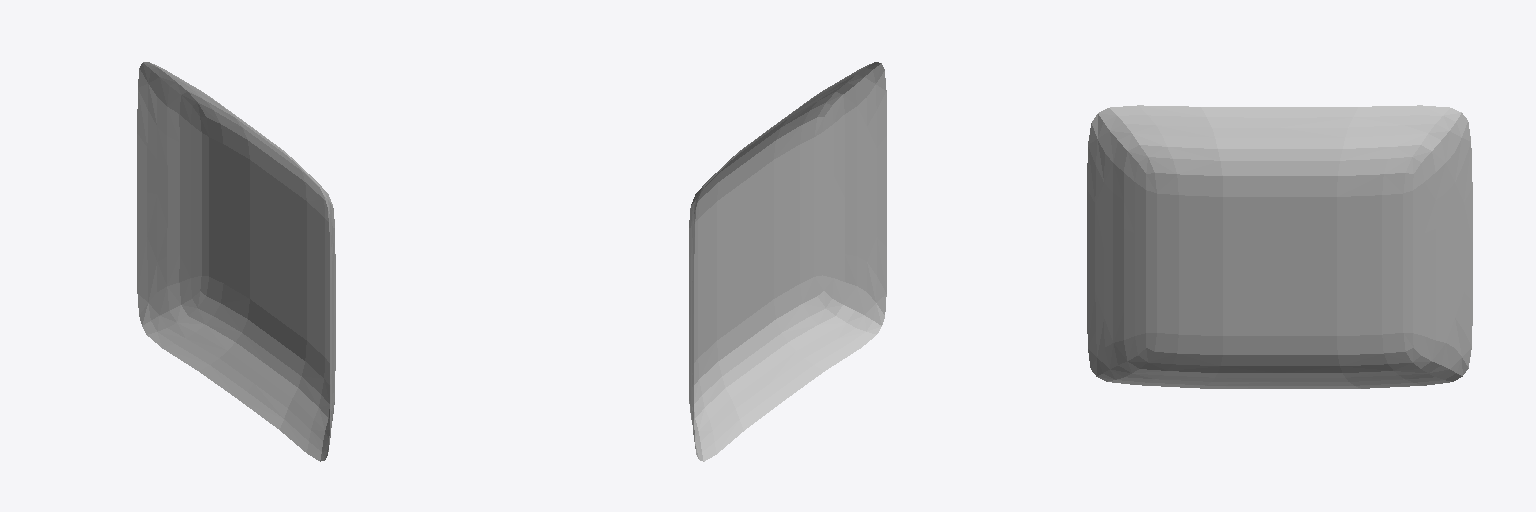
Rendered from shagboy_display.obj.
3 renders of one model, left to right at view 1: azimuth 30°, elevation 25°; view 2: azimuth 150°, elevation 25°; view 3: azimuth 270°, elevation 25°, orthographic.
Parts seen in each view (by area): view 1: pepboy_reference.001; view 2: pepboy_reference.001; view 3: pepboy_reference.001.
Part boxes in pixels (left/top/right/bottom): pepboy_reference.001: left=137, top=62, right=335, bottom=461; pepboy_reference.001: left=689, top=62, right=886, bottom=461; pepboy_reference.001: left=1087, top=105, right=1472, bottom=388.
Bounding box in the file's own units: 0.8549 × 5.11 × 6.34.